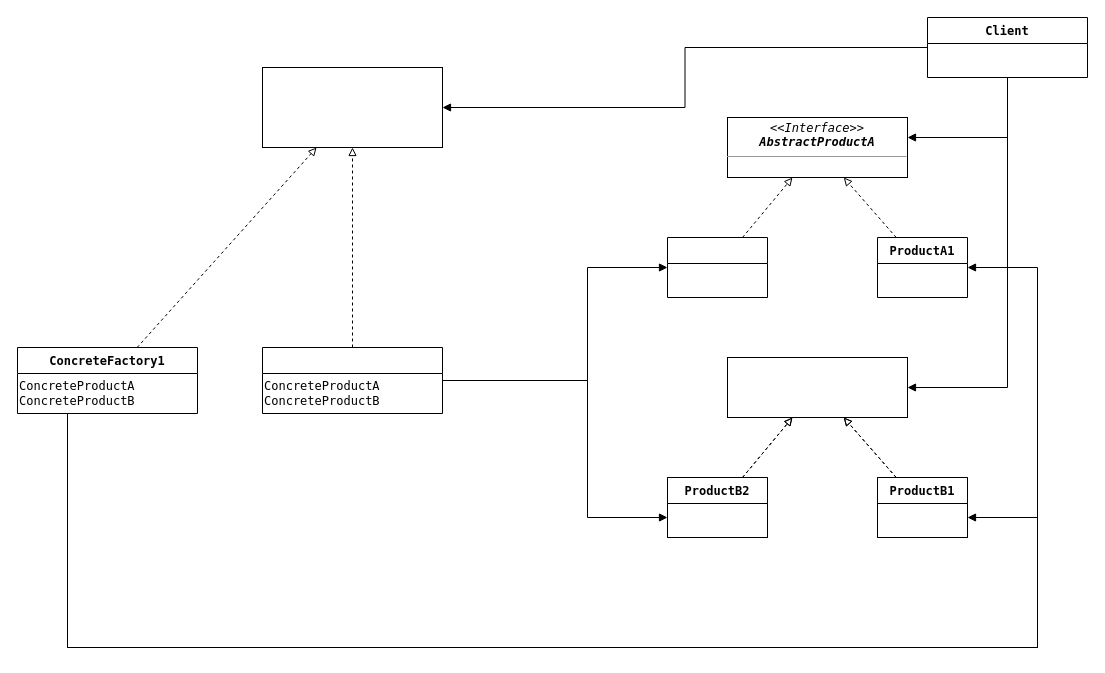
This 1105x673 diagram has some shape labels left out. The shapes that lost their labels are listed below. From the top down, each one's box as (x1, y1, x2, y2) in pixels, then its label:
(262, 66, 442, 148): <<Interface>> AbstractFactory CreateProductA() CreateProductB()
(666, 236, 768, 298): ProductA2
(262, 346, 442, 414): ConcreteFactory2
(726, 356, 908, 418): <<Interface>> AbstractProductB
